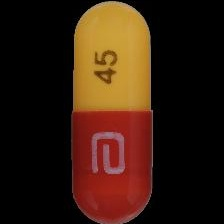68382-077: (0, 0, 224, 224)
